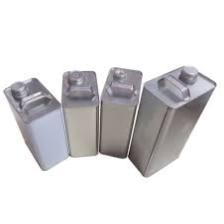metal: (132, 51, 212, 181), (3, 64, 65, 173), (89, 61, 148, 167), (58, 63, 103, 170)
